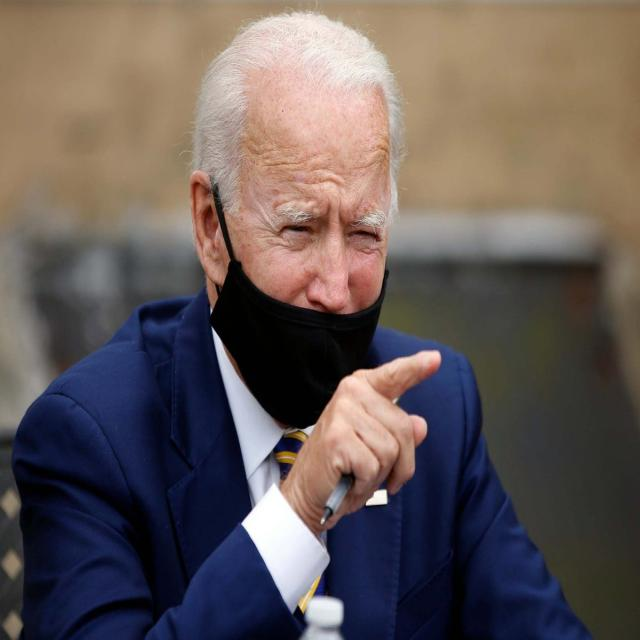mask: (188, 212, 398, 443)
